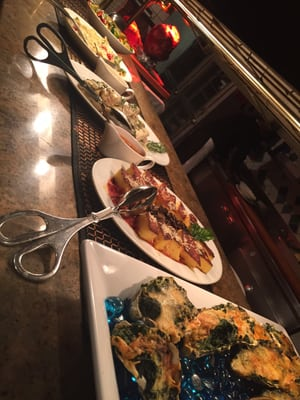salad: (0, 186, 156, 282)
